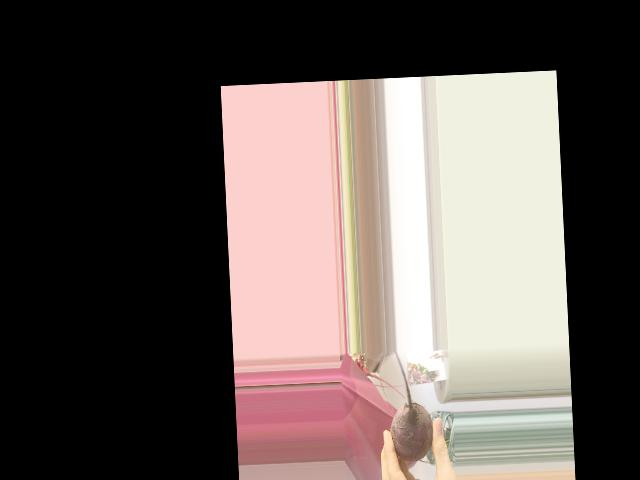beet: (386, 348, 434, 463)
